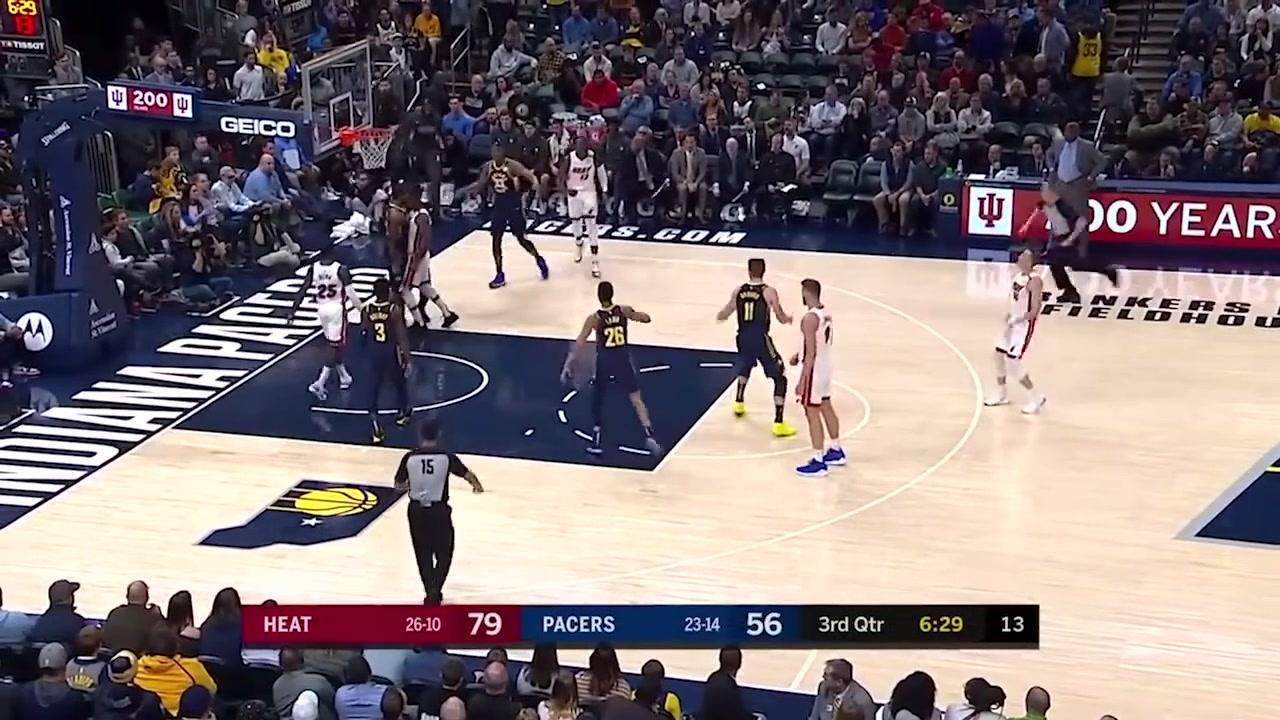foul: (355, 192, 466, 338)
